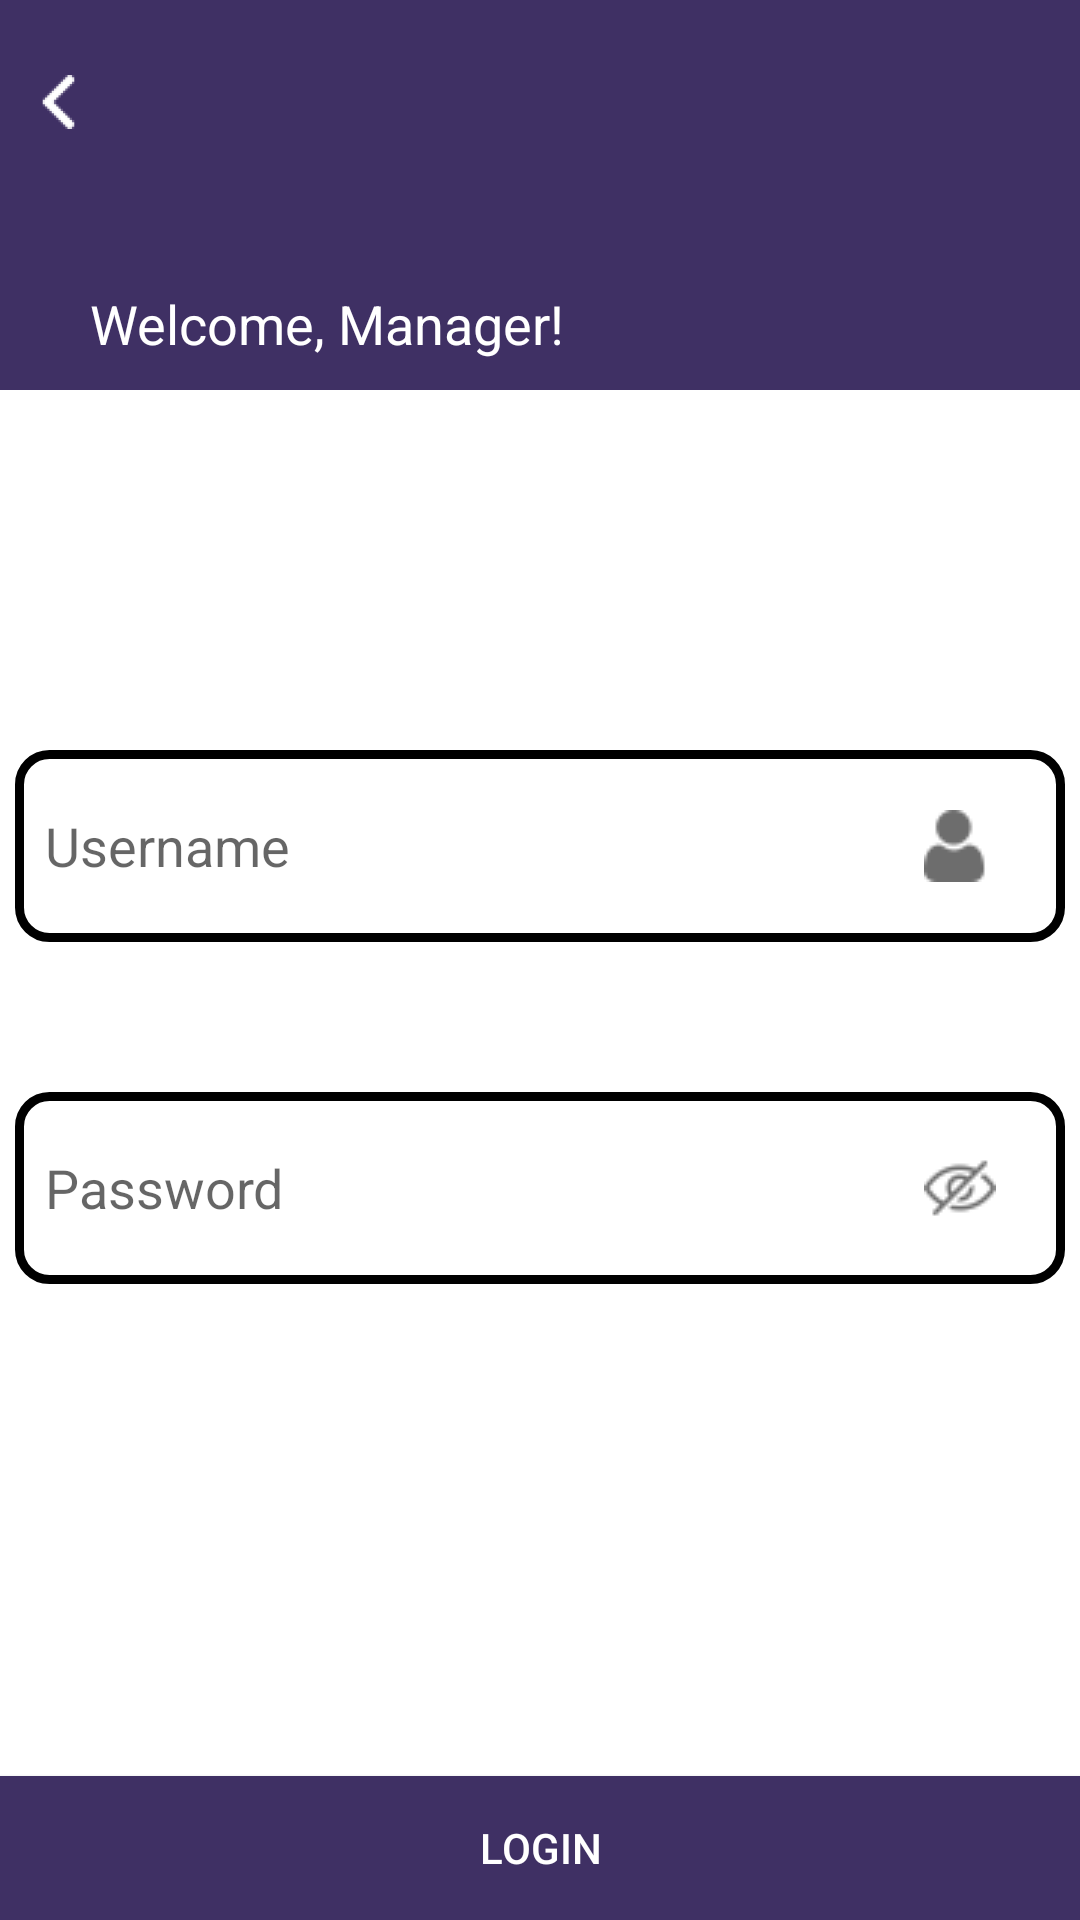

Icons on this 1080w x 1920h Android screen, each with its box as (x1, y1, x2, y2):
Back: (42, 75, 75, 129)
